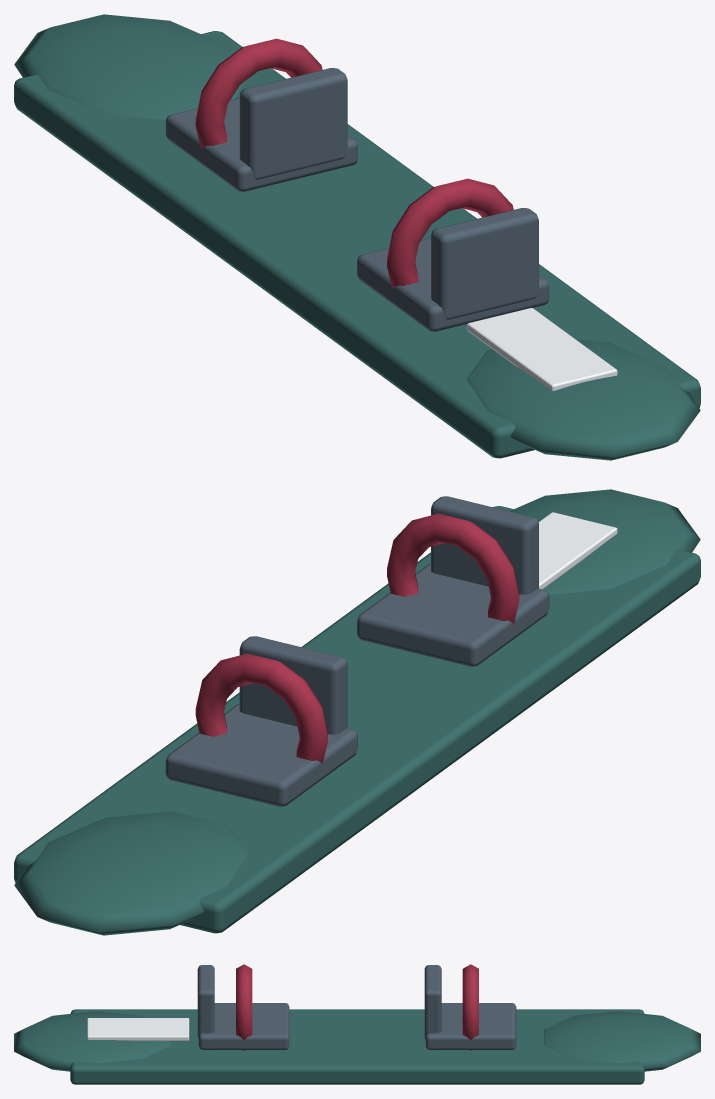
The model's file is alpine-snow-village-alpine-snowboard-838676f7__19816.glb.
The picture shows the model from 3 angles, top to bottom: view 1: azimuth 30°, elevation 25°; view 2: azimuth 150°, elevation 25°; view 3: azimuth 270°, elevation 25°; orthographic projection. The views are drawn at different scales.
Parts seen in each view (by area): view 1: alpine-snowboard-pine, alpine-snowboard-iron, alpine-snowboard-berry, alpine-snowboard-snow; view 2: alpine-snowboard-pine, alpine-snowboard-iron, alpine-snowboard-berry, alpine-snowboard-snow; view 3: alpine-snowboard-pine, alpine-snowboard-iron, alpine-snowboard-berry, alpine-snowboard-snow.
Boxes of the visible parts, x1=… form: alpine-snowboard-pine: x1=14, y1=14, x2=700, y2=460; alpine-snowboard-iron: x1=165, y1=68, x2=549, y2=331; alpine-snowboard-berry: x1=195, y1=38, x2=513, y2=288; alpine-snowboard-snow: x1=467, y1=308, x2=617, y2=390; alpine-snowboard-pine: x1=14, y1=489, x2=700, y2=935; alpine-snowboard-iron: x1=165, y1=496, x2=549, y2=806; alpine-snowboard-berry: x1=195, y1=513, x2=519, y2=763; alpine-snowboard-snow: x1=538, y1=512, x2=617, y2=589; alpine-snowboard-pine: x1=14, y1=1009, x2=700, y2=1084; alpine-snowboard-iron: x1=197, y1=965, x2=516, y2=1049; alpine-snowboard-berry: x1=236, y1=964, x2=478, y2=1050; alpine-snowboard-snow: x1=87, y1=1018, x2=189, y2=1040.
Bounding box in the file's own units: 0.3801 × 0.257 × 1.82.
